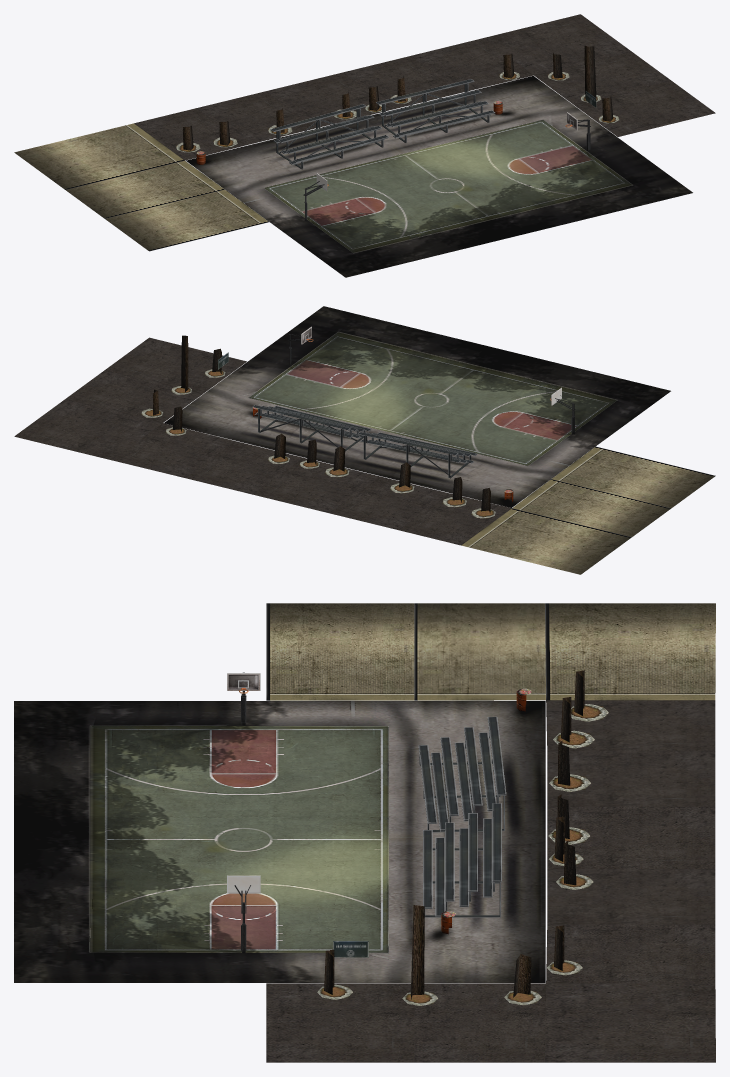
File: court_rucker_mesh.fbx
3 renders of one model, top to bottom at view 1: azimuth 30°, elevation 25°; view 2: azimuth 150°, elevation 25°; view 3: azimuth 270°, elevation 25°, orthographic. The views are drawn at different scales.
Visible parts, largest first — view 1: court_rucker_mesh; view 2: court_rucker_mesh; view 3: court_rucker_mesh.
Boxes of the visible parts, x1=… form: court_rucker_mesh: x1=14, y1=14, x2=715, y2=277; court_rucker_mesh: x1=14, y1=306, x2=715, y2=574; court_rucker_mesh: x1=14, y1=603, x2=715, y2=1062.
Bounding box in the file's own units: 195 × 18.13 × 126.
